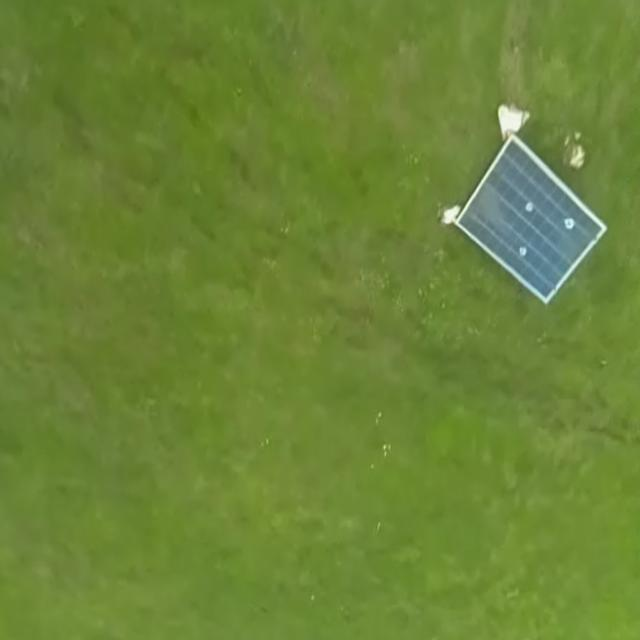Bird-drop: (517, 241, 530, 261), (562, 213, 576, 231), (524, 198, 537, 215)
